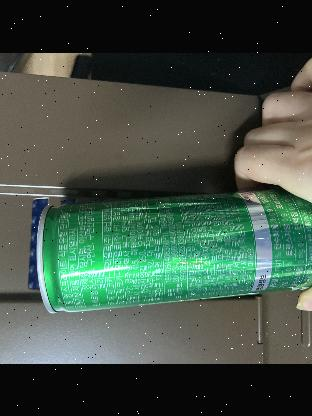Can: (35, 186, 312, 313)
